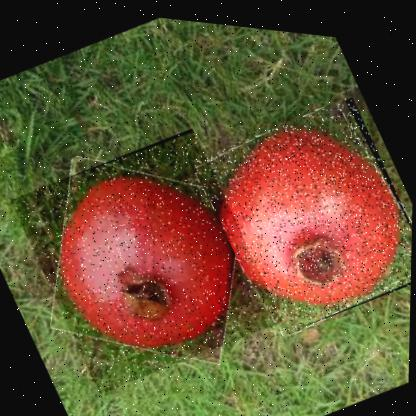pomegranate: (6, 106, 286, 407), (188, 73, 414, 344)
